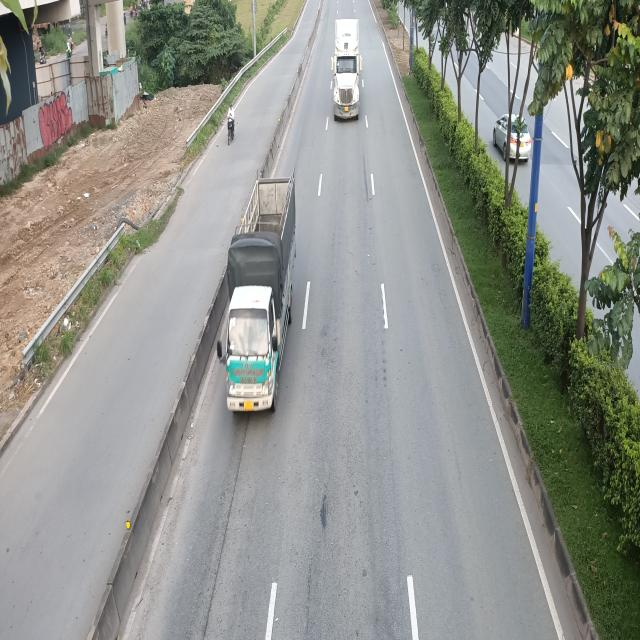container: (331, 16, 363, 121)
truck: (219, 174, 298, 412)
